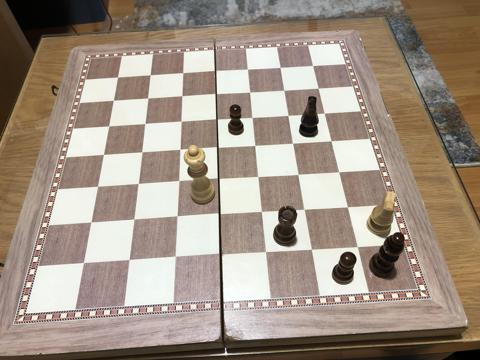xcorner: (312, 83, 325, 96), (287, 138, 300, 151), (173, 145, 186, 158), (274, 63, 287, 75), (209, 67, 222, 79), (278, 86, 291, 98), (107, 96, 120, 108), (319, 108, 331, 121), (139, 119, 151, 132), (103, 121, 115, 134), (325, 136, 338, 148), (249, 141, 262, 153), (211, 143, 224, 155), (135, 148, 148, 160), (252, 172, 265, 184), (212, 174, 224, 187), (132, 179, 144, 192), (341, 202, 354, 214), (299, 204, 311, 217), (171, 212, 183, 225), (85, 217, 97, 230), (351, 241, 363, 254), (305, 244, 318, 256), (214, 250, 227, 262), (169, 252, 181, 265), (307, 61, 319, 73), (242, 65, 254, 77), (177, 69, 189, 81), (144, 71, 156, 83), (112, 73, 124, 85), (244, 88, 256, 100), (210, 90, 222, 102), (176, 92, 188, 104), (142, 94, 154, 106), (283, 111, 295, 123), (247, 113, 259, 125), (211, 115, 223, 127), (175, 117, 187, 129), (98, 150, 110, 162), (333, 167, 345, 179), (293, 170, 305, 182), (172, 177, 184, 189), (92, 182, 104, 194), (256, 207, 268, 219), (213, 210, 225, 222), (128, 215, 140, 227), (260, 247, 272, 259), (123, 255, 135, 267), (78, 258, 90, 270)
